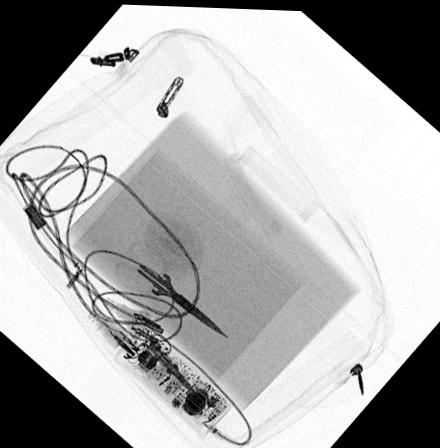Scissors: (110, 238, 230, 336)
